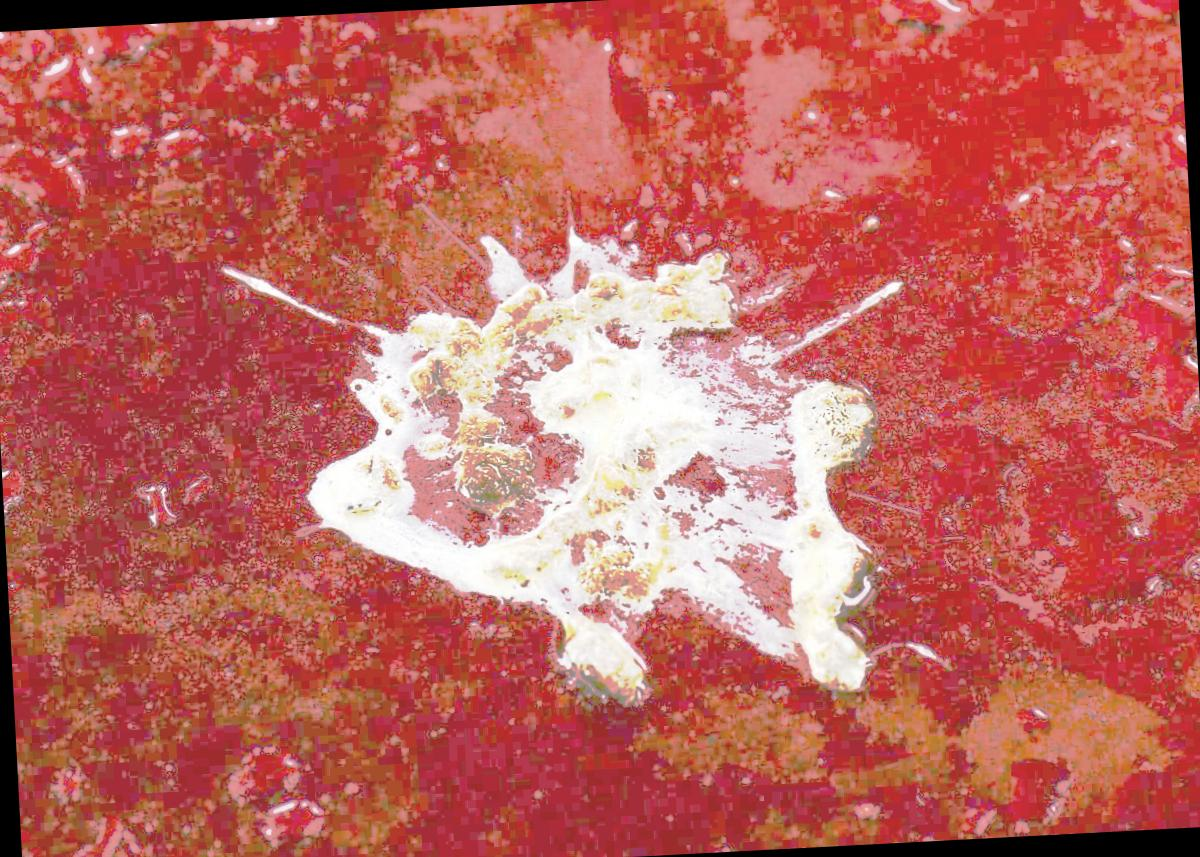Bird Poop: (307, 230, 897, 701), (225, 268, 338, 320)
